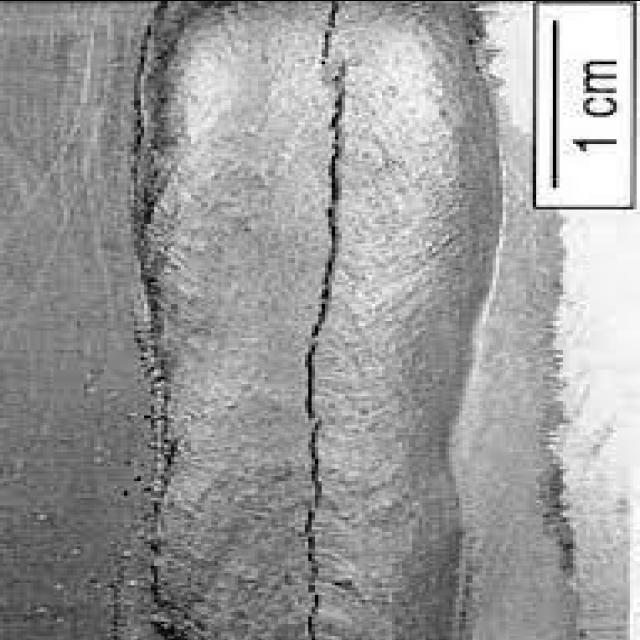Crack: (296, 3, 359, 639)
